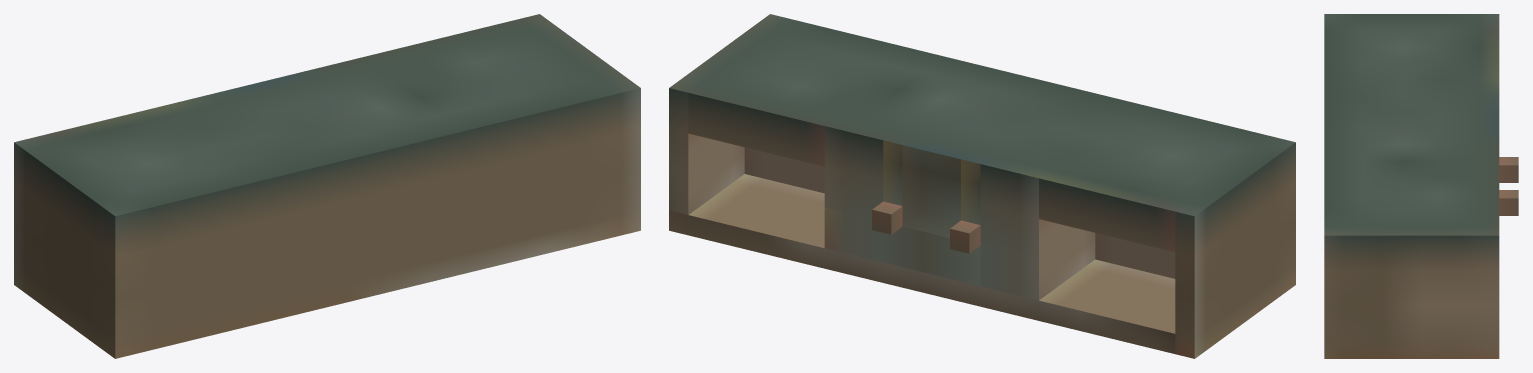
Rendered from CabinetDarkGreenWide_02.fbx.
The picture shows the model from 3 angles, left to right: view 1: azimuth 30°, elevation 25°; view 2: azimuth 150°, elevation 25°; view 3: azimuth 270°, elevation 25°; orthographic projection. The views are drawn at different scales.
Parts seen in each view (by area): view 1: CabinetDarkGreenWide_02; view 2: CabinetDarkGreenWide_02; view 3: CabinetDarkGreenWide_02.
Boxes of the visible parts, bbox=[...] form: CabinetDarkGreenWide_02: bbox=[14, 14, 640, 358]; CabinetDarkGreenWide_02: bbox=[669, 14, 1295, 358]; CabinetDarkGreenWide_02: bbox=[1324, 14, 1518, 358].
Bounding box in the file's own units: 135 × 50 × 35.
Materials: 1 (1 with a texture image).
